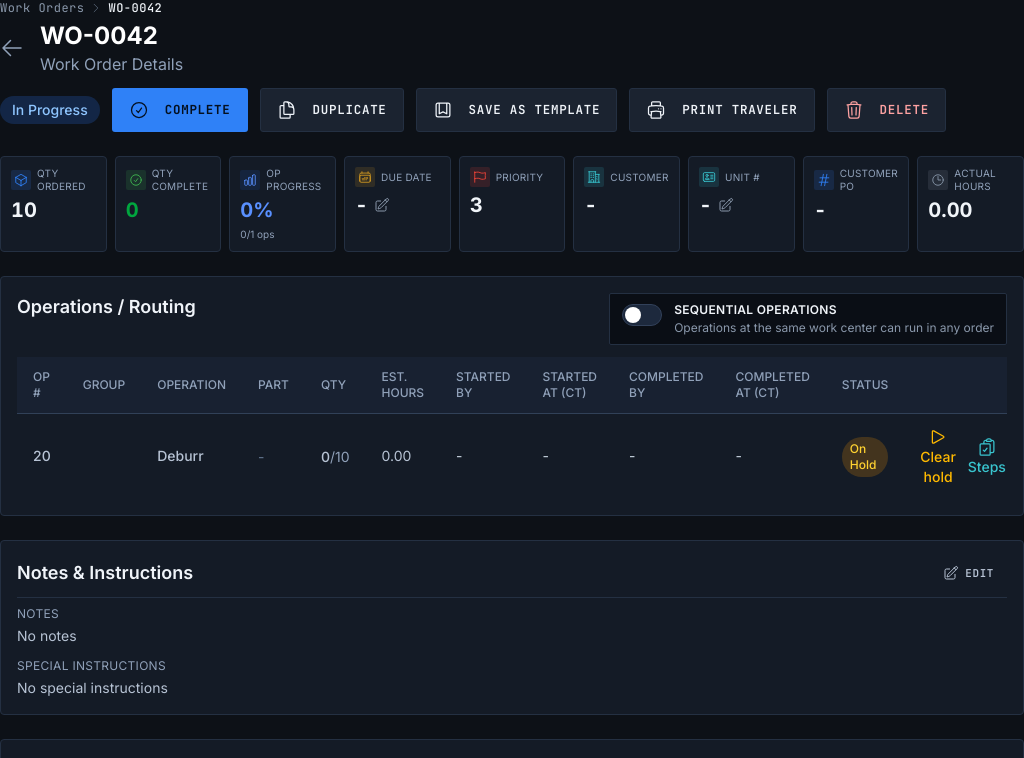
Scenario: WorkOrderDetail — why an operation is held (fix D) › says NOTHING about the reason when the block did not arrive — never "not recorded"
Expected: the text "Deburr" is shown, [157,447,204,464]
And the confirm says the reason could not be LOADED, not that none exists.
Step 1. Click the button titled "Lift the hold on this operation" → click(938, 456), box [920,426,956,487]
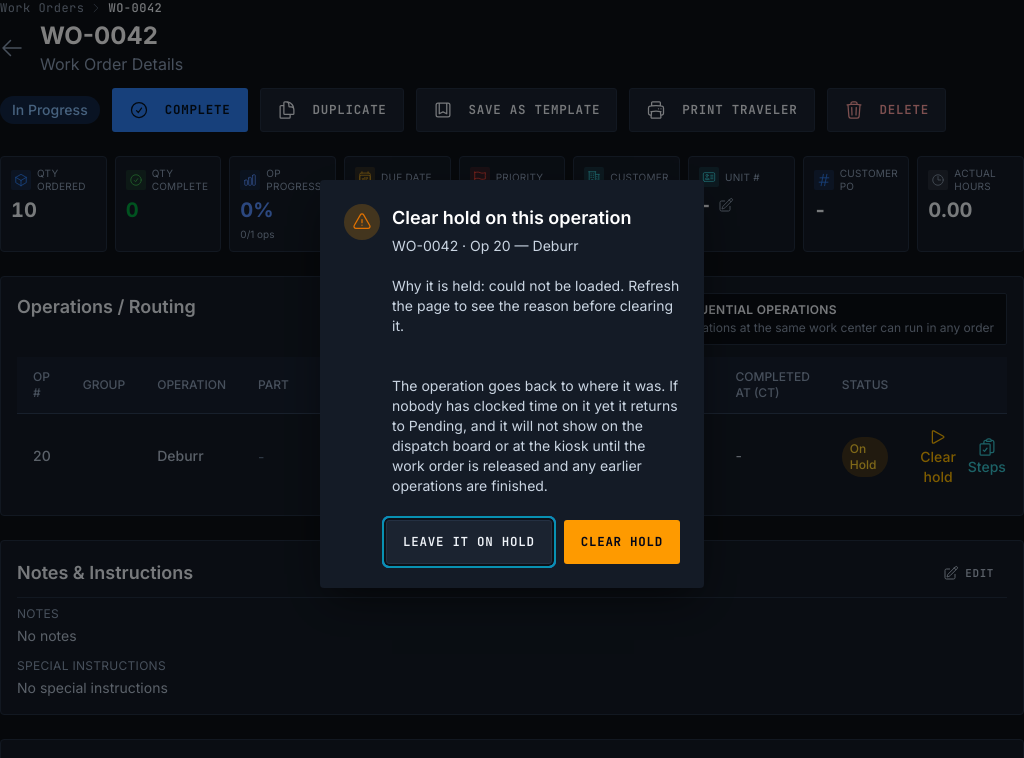
Expected: the text "Why it is held: could not be loaded" is shown, [392,237,679,494]
